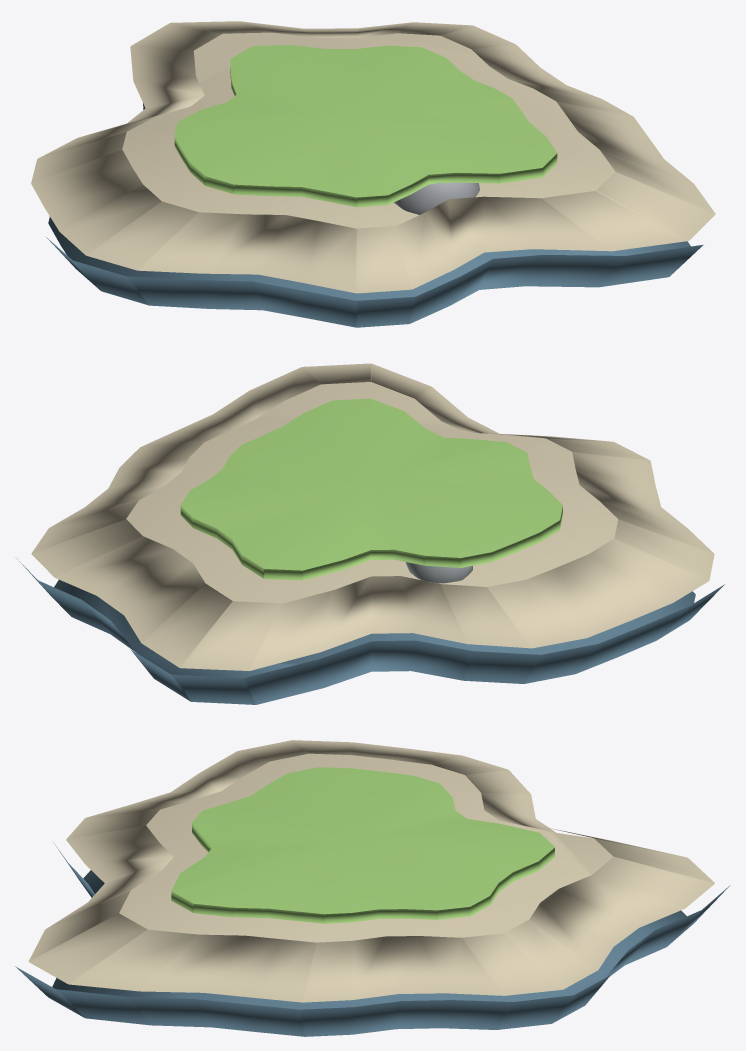
The model's file is terrain_island_11.glb.
3 views of the same model, one above another, from view 1: azimuth 30°, elevation 25°; view 2: azimuth 150°, elevation 25°; view 3: azimuth 270°, elevation 25° (orthographic). The views are drawn at different scales.
Visible parts, largest first — view 1: island_sand, island_grass_dome, island_base, island_grass_base, rock1; view 2: island_sand, island_grass_dome, island_base, island_grass_base, rock0; view 3: island_sand, island_grass_dome, island_base, island_grass_base.
Boxes of the visible parts, <box> form: island_sand: <box>31,21,715,293</box>; island_grass_dome: <box>174,45,557,197</box>; island_base: <box>45,103,703,327</box>; island_grass_base: <box>174,64,557,207</box>; rock1: <box>394,182,479,214</box>; island_sand: <box>31,363,714,670</box>; island_grass_dome: <box>180,398,562,570</box>; island_base: <box>15,557,724,704</box>; island_grass_base: <box>180,505,562,580</box>; rock0: <box>405,562,472,583</box>; island_sand: <box>28,740,714,1002</box>; island_grass_dome: <box>171,767,554,914</box>; island_base: <box>15,842,730,1036</box>; island_grass_base: <box>171,823,554,923</box>.
Size of the model in its own units: 89.23 by 12.6 by 97.92.
